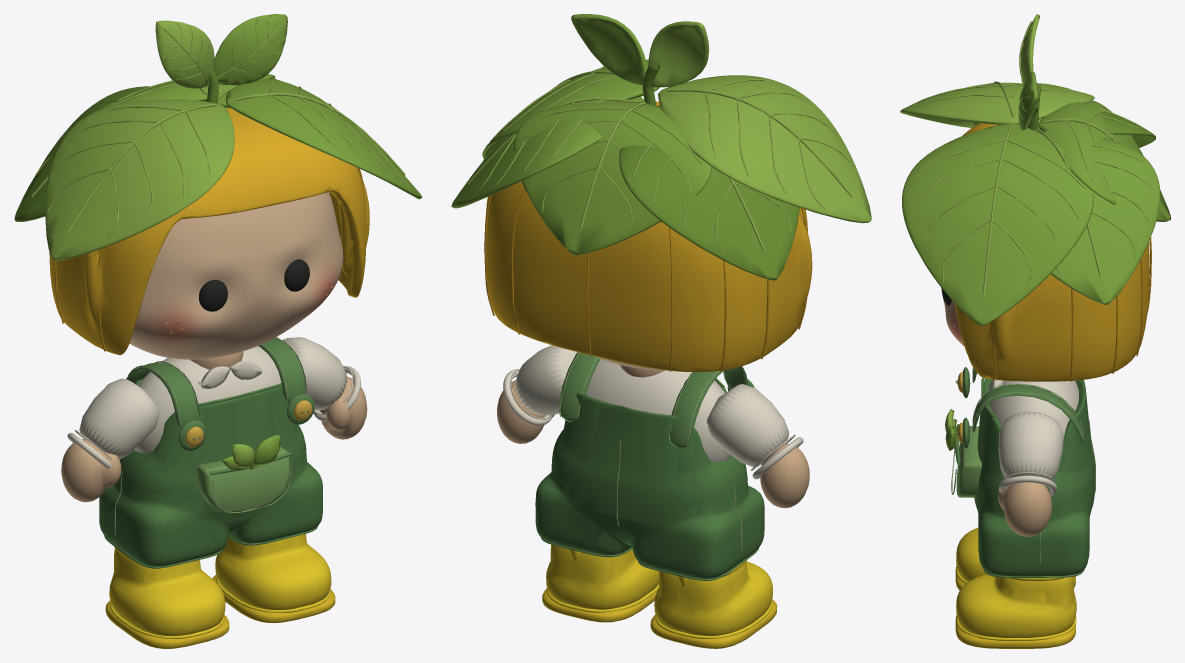
The model's file is gardener.glb.
The picture shows the model from 3 angles, left to right: view 1: azimuth 30°, elevation 25°; view 2: azimuth 150°, elevation 25°; view 3: azimuth 270°, elevation 25°; orthographic projection. The views are drawn at different scales.
Visible parts, largest first — view 1: gardener; view 2: gardener; view 3: gardener.
Boxes of the visible parts, x1,y1,x2,y2 form: gardener: (14, 14, 422, 648); gardener: (451, 14, 871, 648); gardener: (900, 14, 1170, 648).
Size of the model in its own units: 3 by 4.63 by 1.99.
